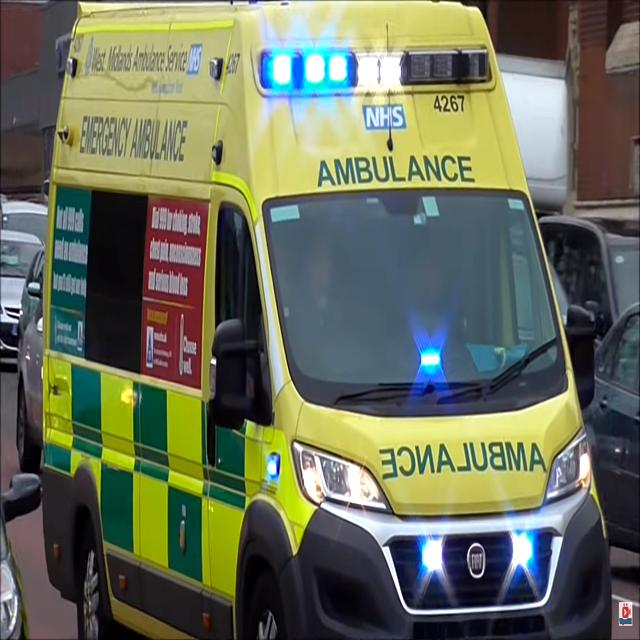emergency-vehicles: (34, 1, 598, 640)
